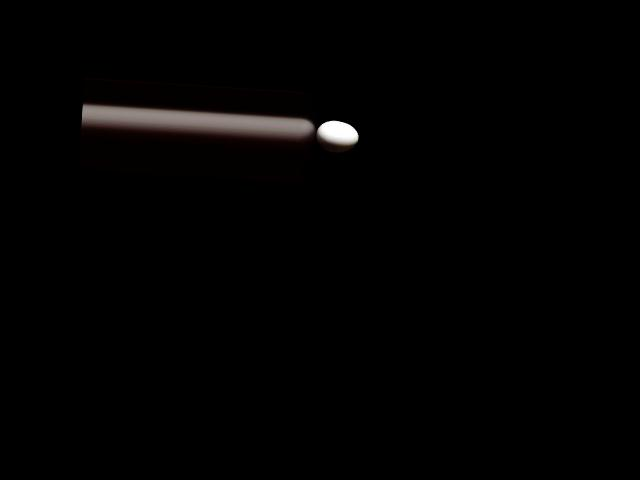egg: (314, 119, 359, 153)
